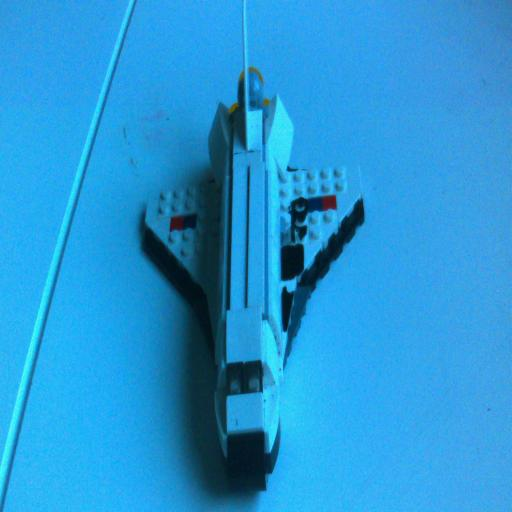defect_colour: (288, 197, 310, 237), (281, 283, 296, 333), (283, 246, 304, 280)
